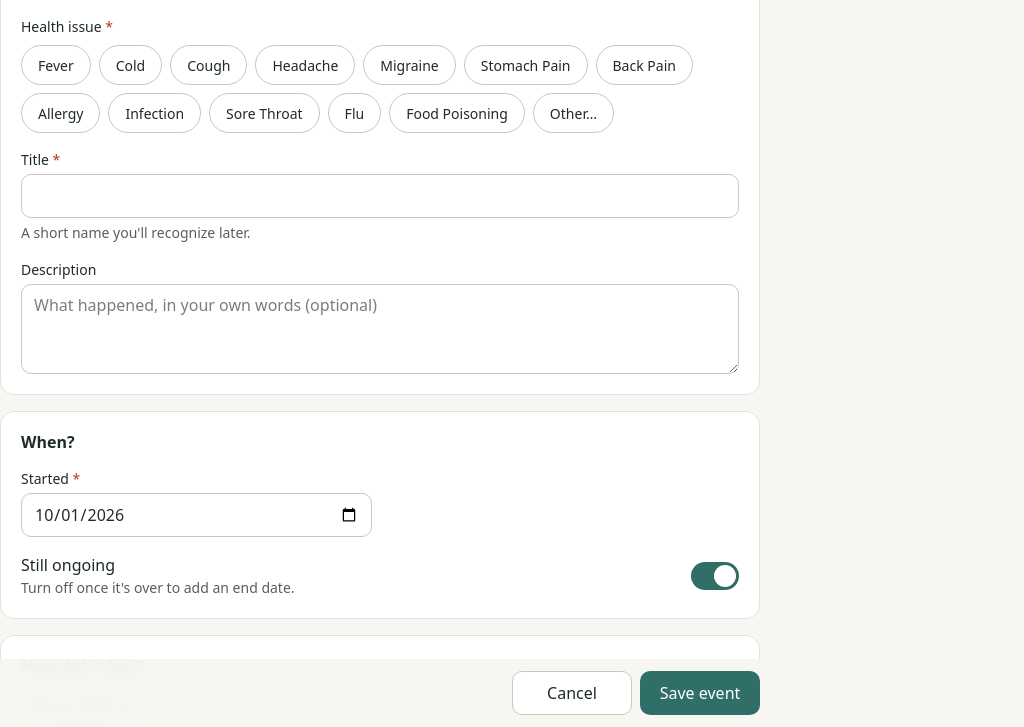
Test: EventForm › rejects an end date before the start date
Click the radio button labelled "Fever". click: point(56, 65)
box: x1=21 y1=45 x2=91 y2=85
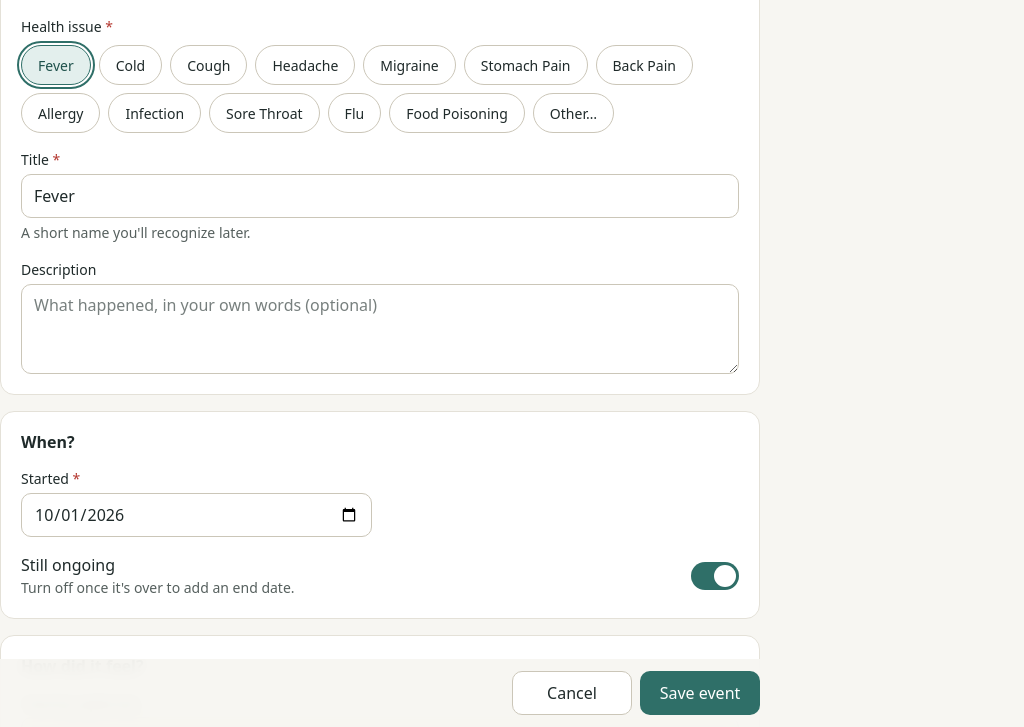
Click the switch labelled "Still ongoing". click: point(715, 576)
box: x1=691 y1=562 x2=739 y2=590
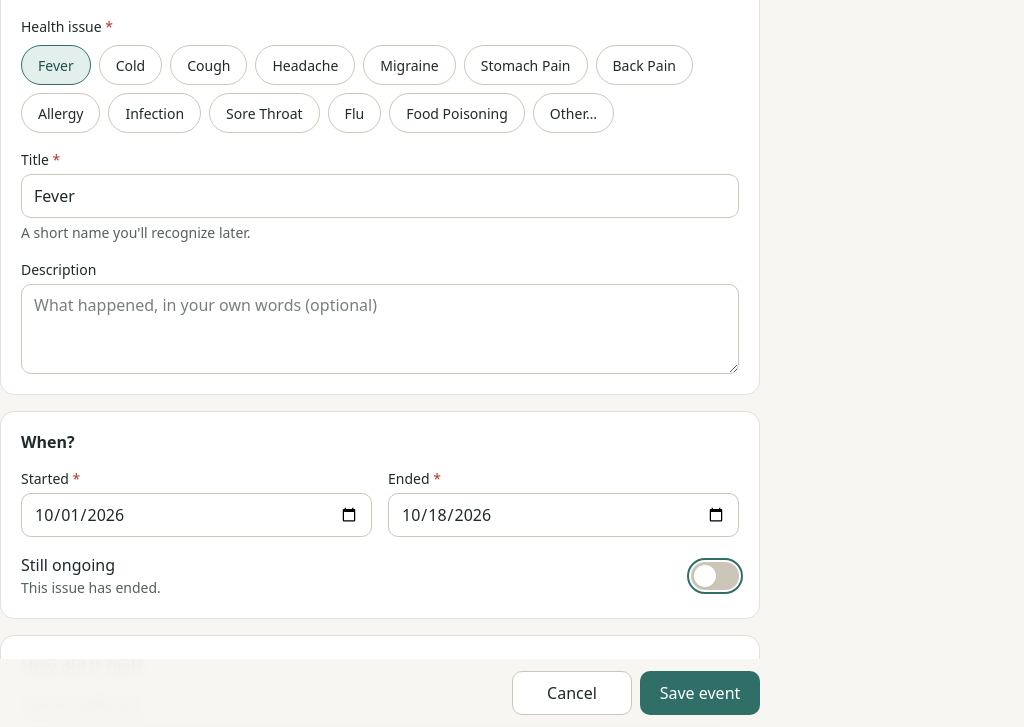
Type "2026-09-25" into the date field labelled "Ended *". click: point(564, 515)
box: x1=388 y1=493 x2=739 y2=537
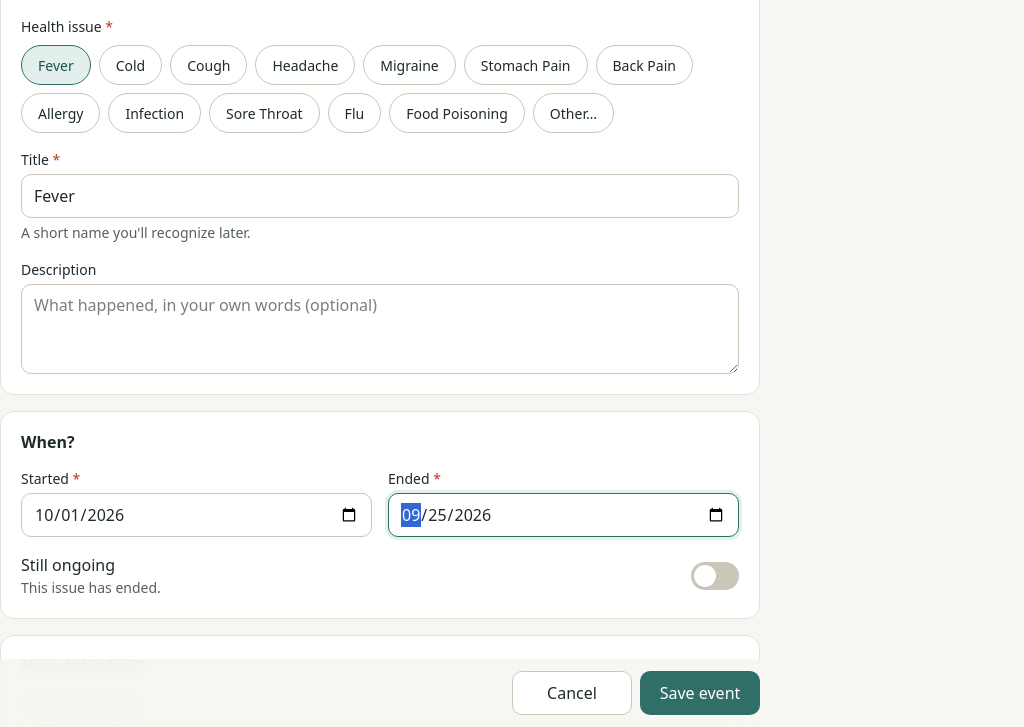
Click the button "Save event". click: point(700, 693)
box: x1=640 y1=671 x2=760 y2=715
(page scrolled)
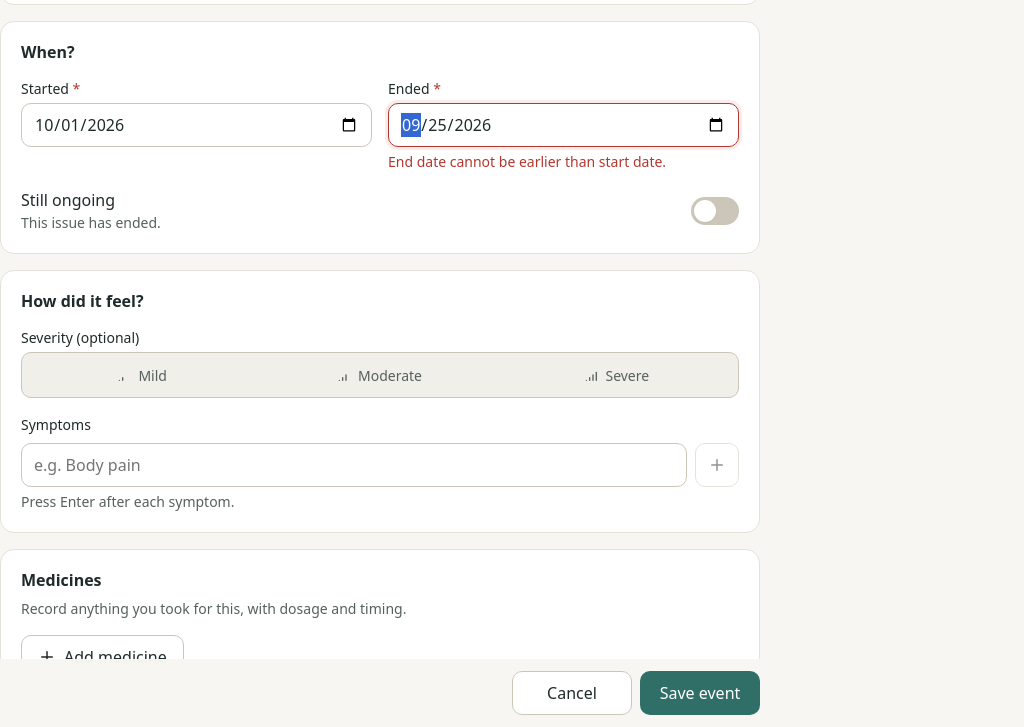
Expected: the text "End date cannot be earlier than start date." is shown, x1=388 y1=152 x2=666 y2=171
